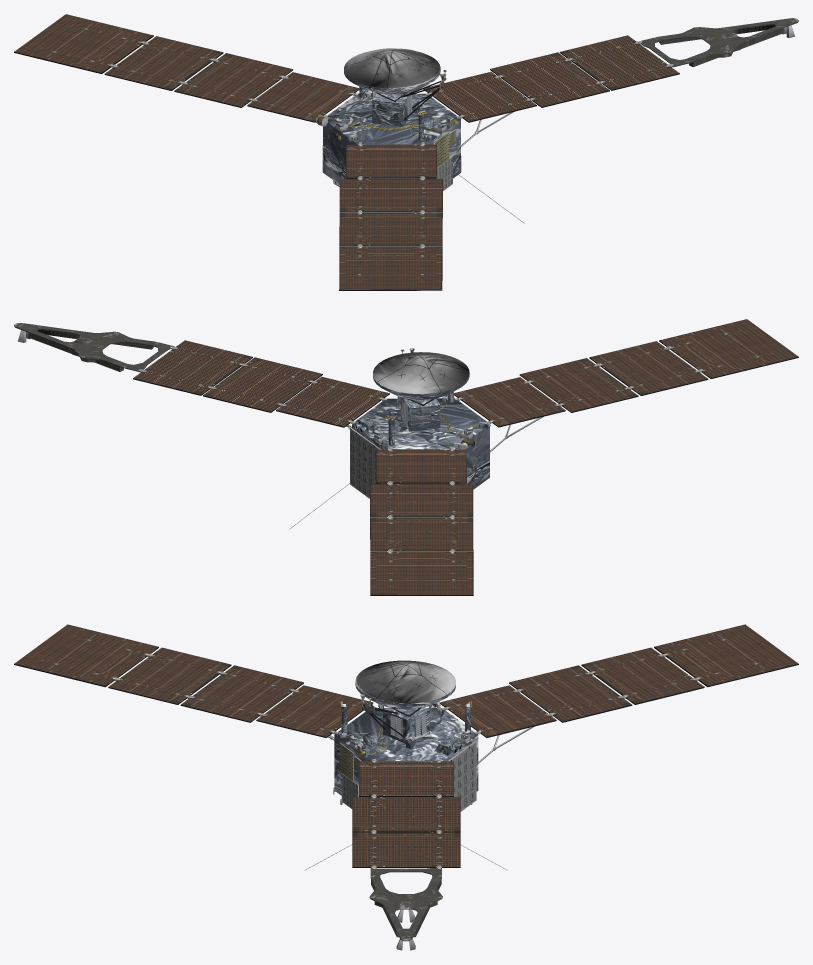
File: derelict-juno.gltf
The picture shows the model from 3 angles, top to bottom: view 1: azimuth 30°, elevation 25°; view 2: azimuth 150°, elevation 25°; view 3: azimuth 270°, elevation 25°; orthographic projection. The views are drawn at different scales.
Parts seen in each view (by area): view 1: shiny_panels_Geometry-Body.021, dish_bottom_Geometry-Mesh, dish_top_Geometry-Mesh.002, solar_panels_Geometry-Body.006, black_krinkle_Geometry-Body.007, tex_01_Geometry-Body.003; view 2: shiny_panels_Geometry-Body.021, dish_bottom_Geometry-Mesh, dish_top_Geometry-Mesh.002, tex_01_Geometry-Body.003, solar_panels_Geometry-Body.006, black_krinkle_Geometry-Body.007; view 3: shiny_panels_Geometry-Body.021, dish_bottom_Geometry-Mesh, tex_01_Geometry-Body.003, dish_top_Geometry-Mesh.002, solar_panels_Geometry-Body.006, black_krinkle_Geometry-Body.007.
Boxes of the visible parts, x1,y1,x2,y2 form: shiny_panels_Geometry-Body.021: (14,14,679,289); dish_bottom_Geometry-Mesh: (322,69,461,186); dish_top_Geometry-Mesh.002: (344,48,440,88); solar_panels_Geometry-Body.006: (417,18,798,290); black_krinkle_Geometry-Body.007: (14,35,679,290); tex_01_Geometry-Body.003: (110,25,794,247); shiny_panels_Geometry-Body.021: (133,319,798,594); dish_bottom_Geometry-Mesh: (352,374,490,489); dish_top_Geometry-Mesh.002: (373,352,469,393); tex_01_Geometry-Body.003: (17,330,702,552); solar_panels_Geometry-Body.006: (14,323,174,371); black_krinkle_Geometry-Body.007: (133,340,798,595); shiny_panels_Geometry-Body.021: (14,624,798,866); dish_bottom_Geometry-Mesh: (334,682,478,800); tex_01_Geometry-Body.003: (112,653,699,950); dish_top_Geometry-Mesh.002: (355,660,455,703); solar_panels_Geometry-Body.006: (369,868,442,941); black_krinkle_Geometry-Body.007: (14,647,798,867).
Bounding box in the file's own units: 17.65 × 4.26 × 18.54.
Materials: 9 (9 with a texture image).
